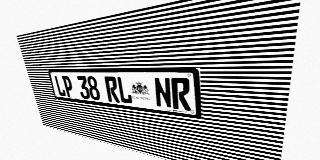3: (76, 76, 90, 99)
8: (86, 76, 101, 101)
L: (116, 77, 133, 104), (54, 75, 66, 97)
N: (153, 77, 172, 109)
P: (61, 76, 75, 98)
R: (171, 77, 191, 111), (104, 76, 120, 103)
